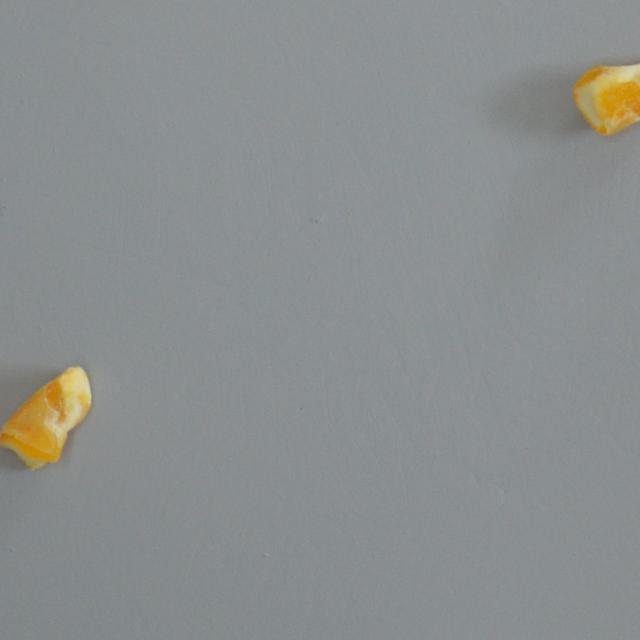pelicula: (0, 364, 92, 471), (568, 46, 640, 138)
